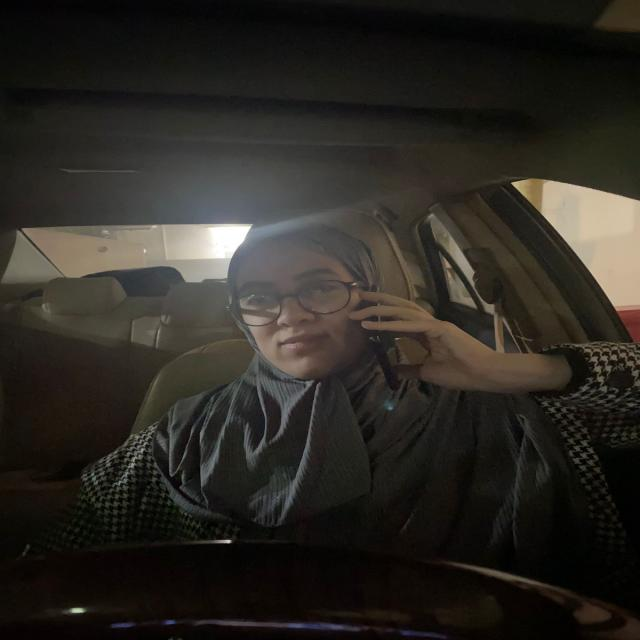mobile: (362, 281, 413, 397)
person: (225, 235, 362, 378)
